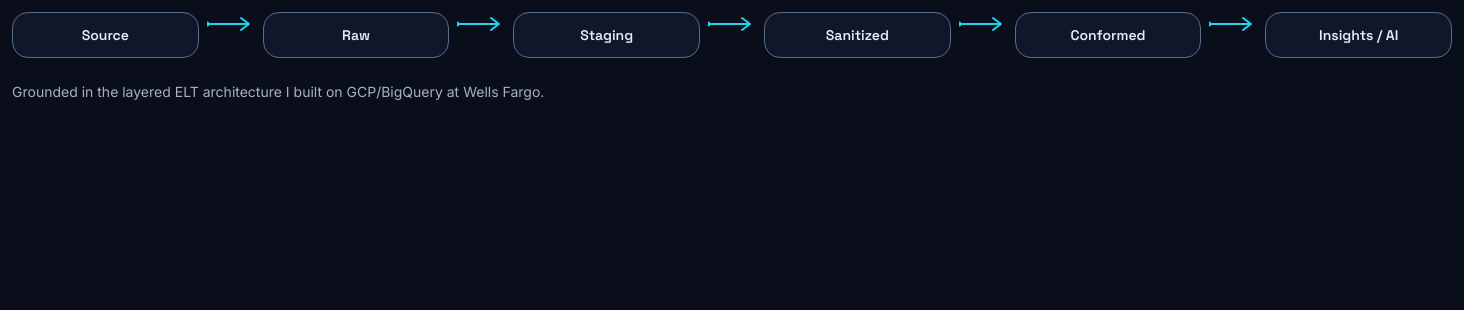
Test: PipelineDiagram — reduced motion (Req 11.10) › keeps expand/collapse instant and the static arrows present; the flow dot is still in the DOM
Click the button "Source" at (105, 35), box [12,12,199,58]
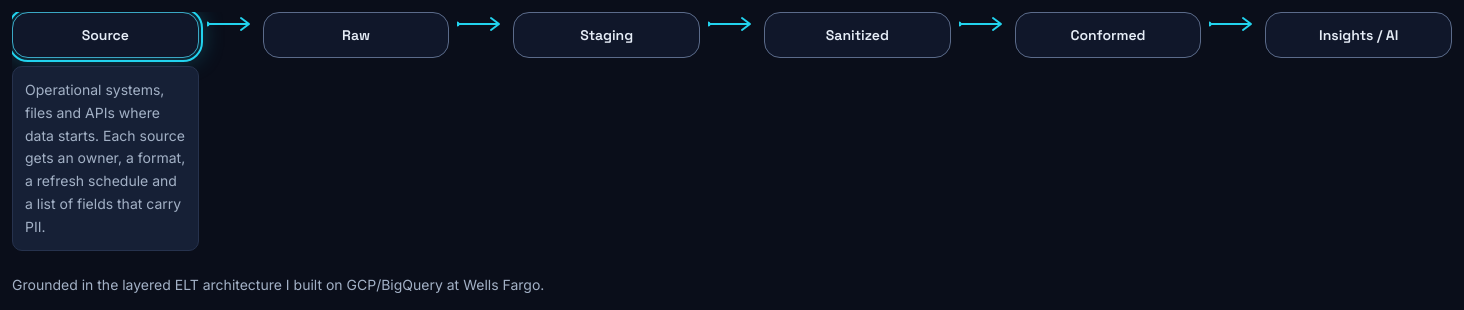
expect the button "Source" is expanded: met
Click the button "Source" at (105, 35), box [12,12,199,58]
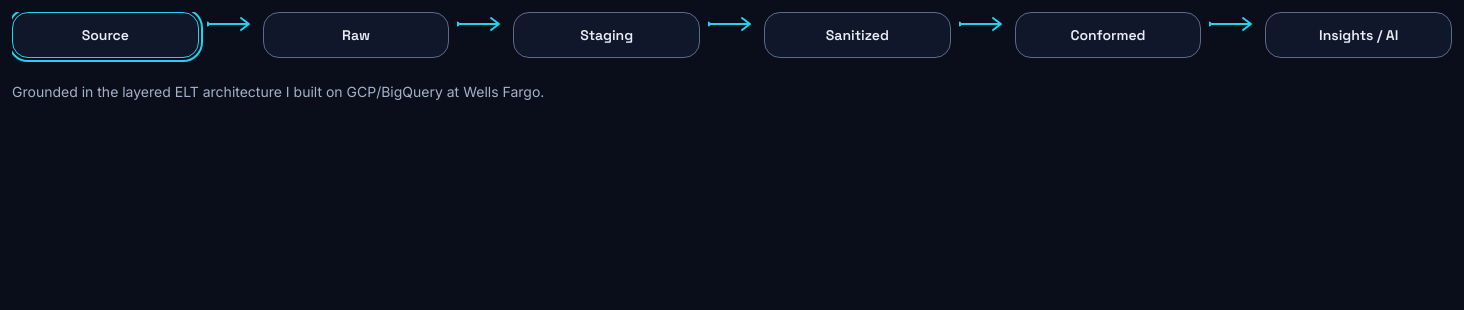
expect the button "Source" is collapsed: met, box [12,12,199,58]
